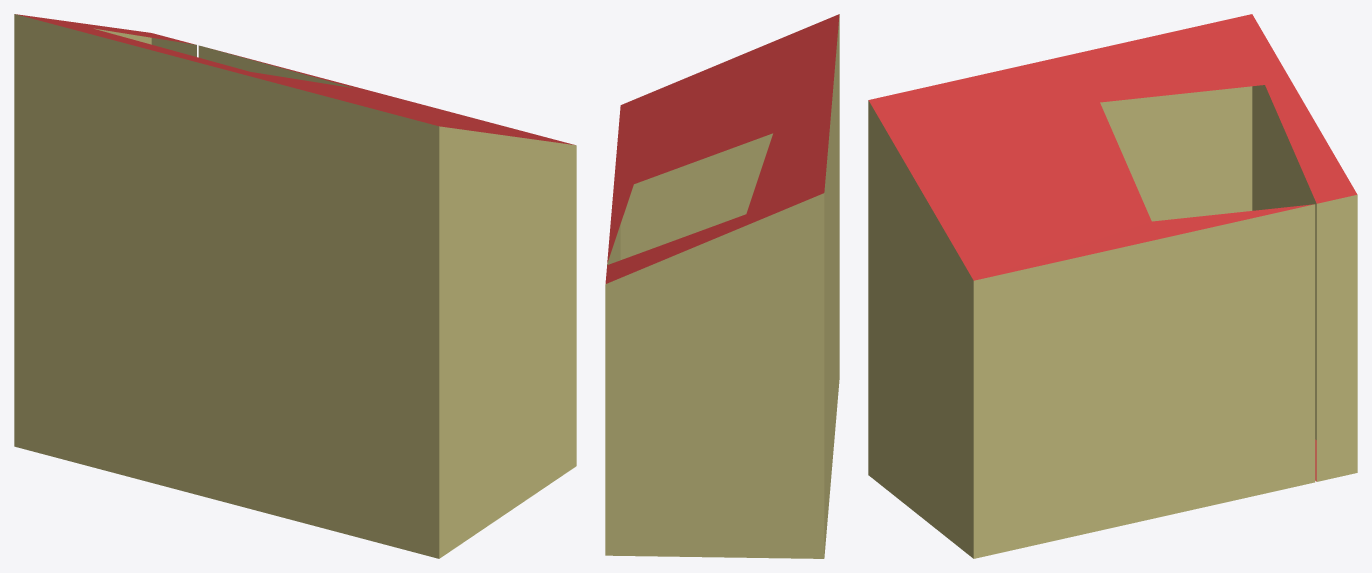
3 renders of one model, left to right at view 1: azimuth 30°, elevation 25°; view 2: azimuth 150°, elevation 25°; view 3: azimuth 270°, elevation 25°, orthographic. The views are drawn at different scales.
Bounding box in the file's own units: 5.66 × 6.89 × 5.83.
